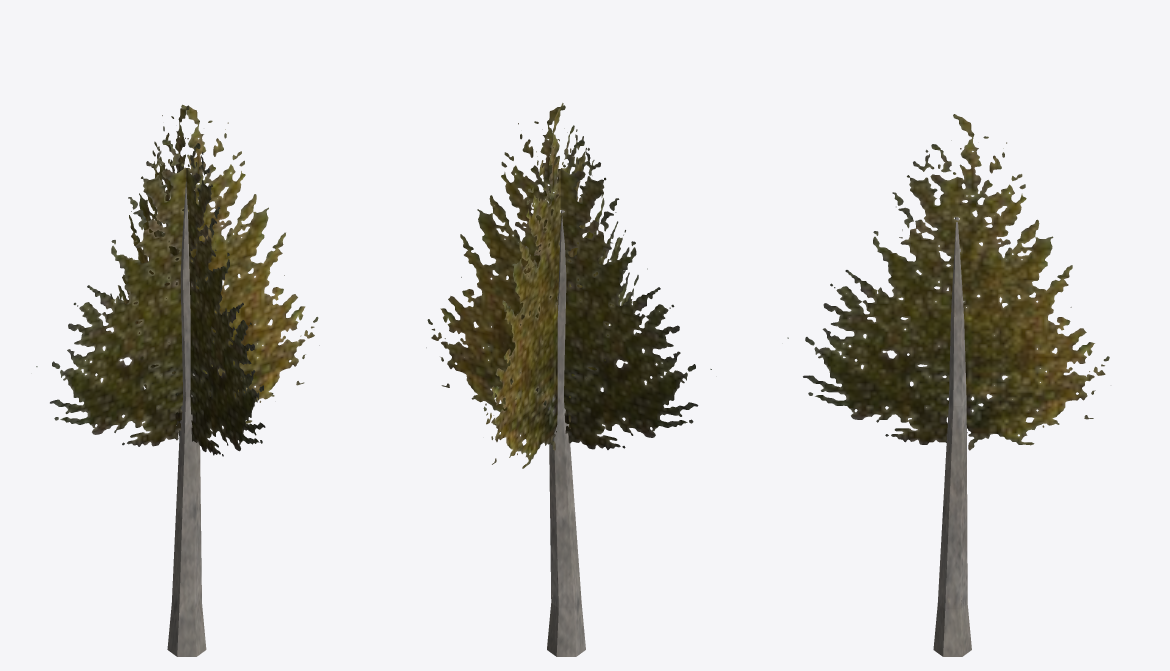
File: Tree1.fbx
3 views of the same model, side by side, from view 1: azimuth 30°, elevation 25°; view 2: azimuth 150°, elevation 25°; view 3: azimuth 270°, elevation 25° (orthographic).
Parts seen in each view (by area): view 1: Plane.015, Plane.010, Tree1; view 2: Plane.015, Plane.010, Tree1; view 3: Plane.010, Tree1.
Part boxes in pixels (x1,y1,x2,y2): Plane.015: (36, 104, 319, 446); Plane.010: (110, 105, 273, 456); Tree1: (167, 182, 206, 656); Plane.015: (426, 105, 711, 449); Plane.010: (483, 103, 647, 468); Tree1: (547, 210, 585, 656); Plane.010: (787, 114, 1109, 450); Tree1: (933, 217, 971, 656).
Size of the model in its own units: 1122 by 1745 by 1122.
